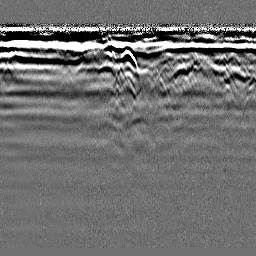cavity: (120, 46, 138, 73)
